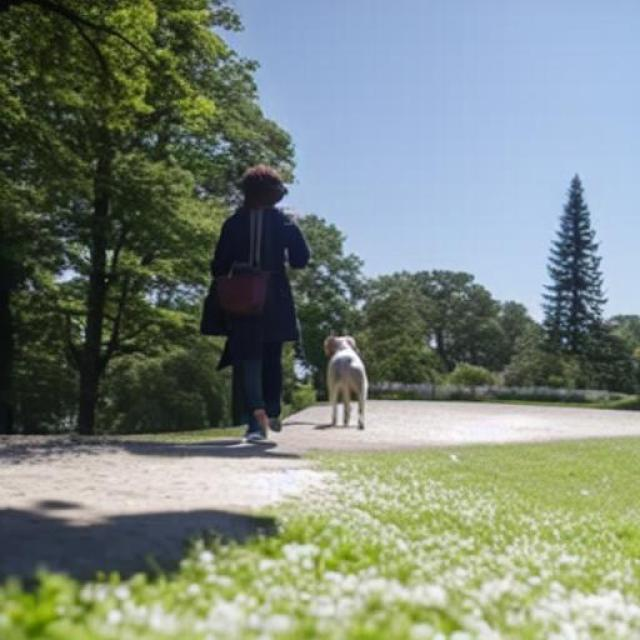Unleashed_Dog: (238, 335, 368, 431)
